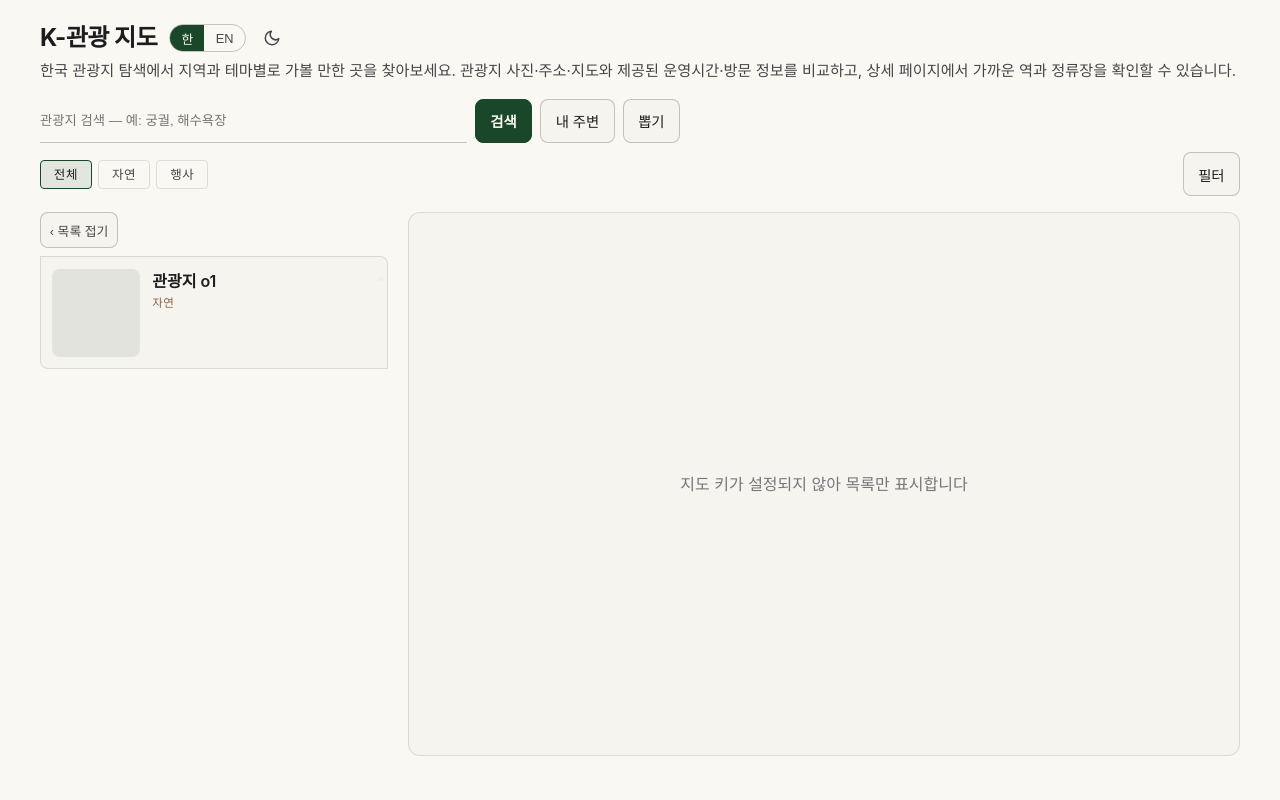
PlacePage 개요 표시 › 정리하고 나서 비는 개요는 요소를 그리지 않는다
Click the heading "관광지 o1" at [184, 281], box top-left (152, 269), bottom-right (216, 293)
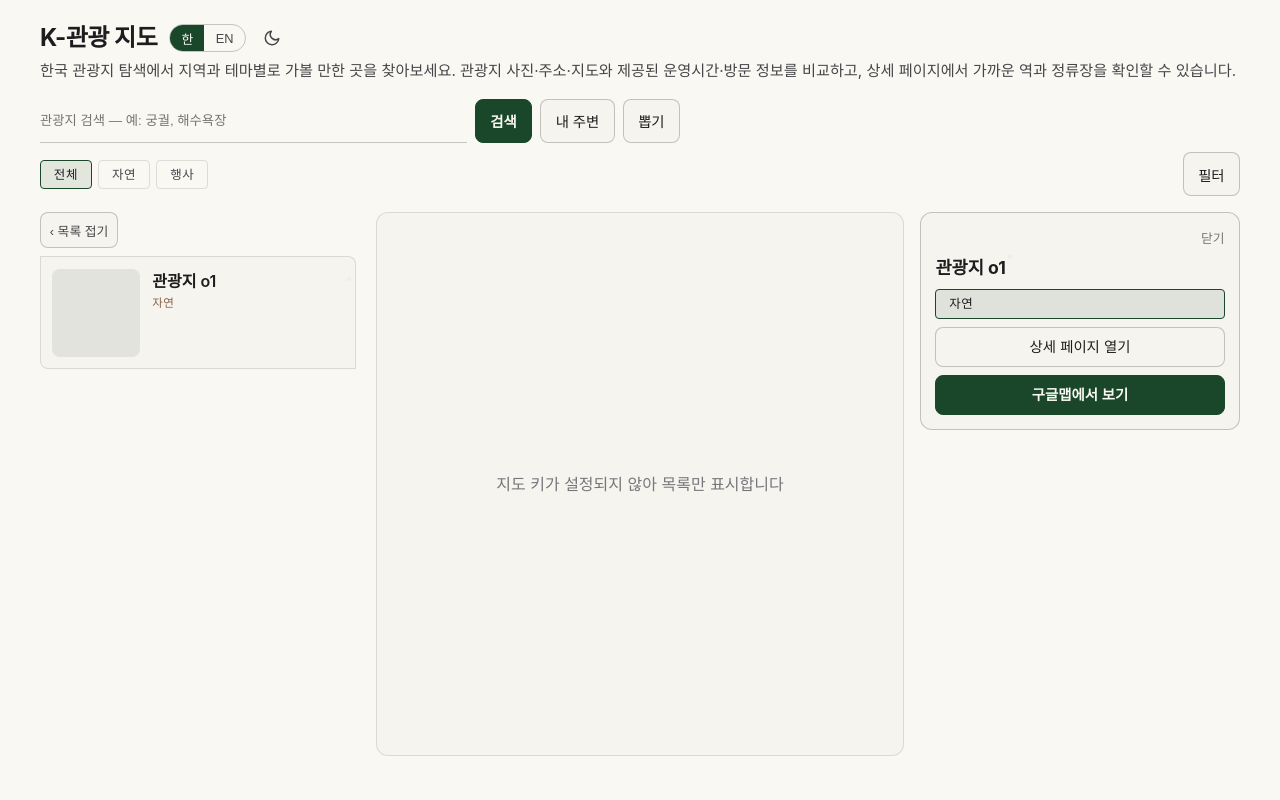
Check: the link "구글맵에서 보기" is shown, box top-left (935, 375), bottom-right (1225, 415)
